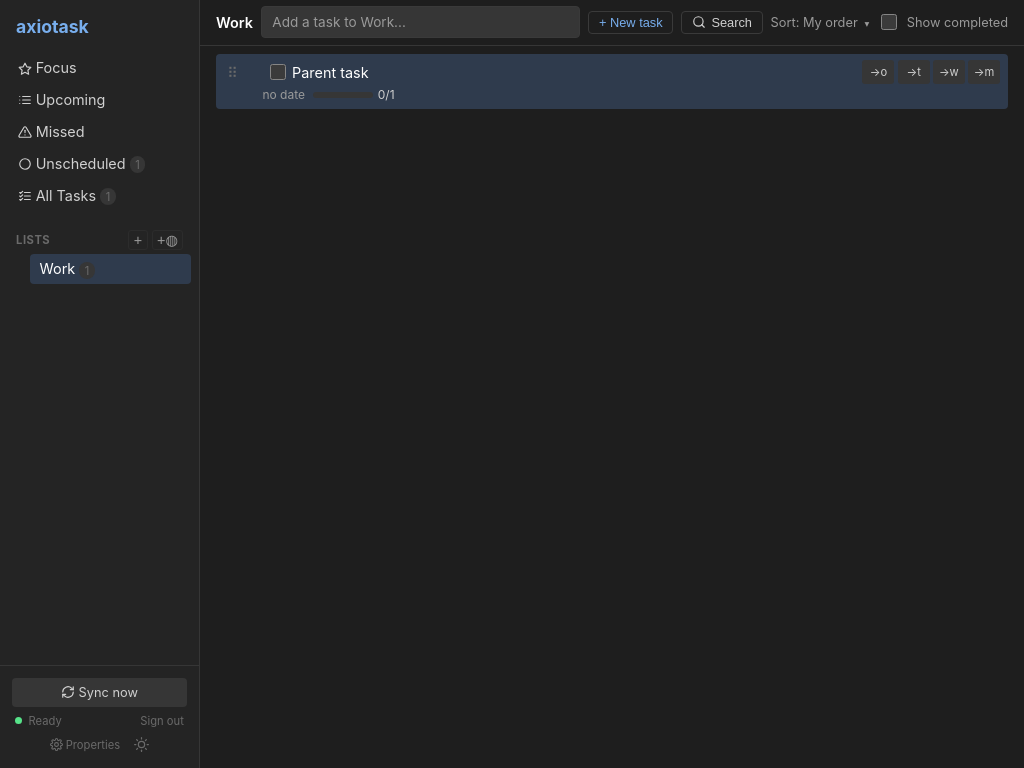
Test: #87 strict two-level tree › a top-level task that has subtasks can still gain more (add field in the panel)
Click the text "Parent task" at [330, 72], box [292,64,369,81]
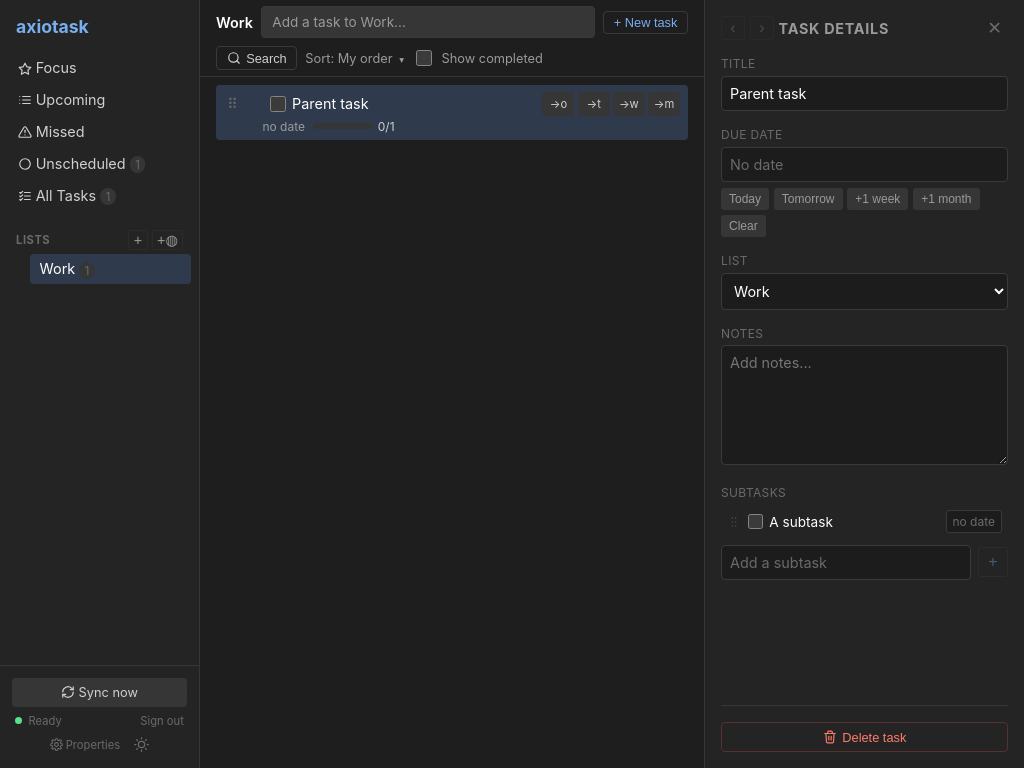
Now the heading "Task Details" is shown, box [779,20,889,36]
Now the field named "New subtask" is shown, box [721,544,971,580]
The list-level context menu no longer offers an add-subtask entry point.
Right-click the element with class "task-widget" at [452, 113], box [216,85,688,140]
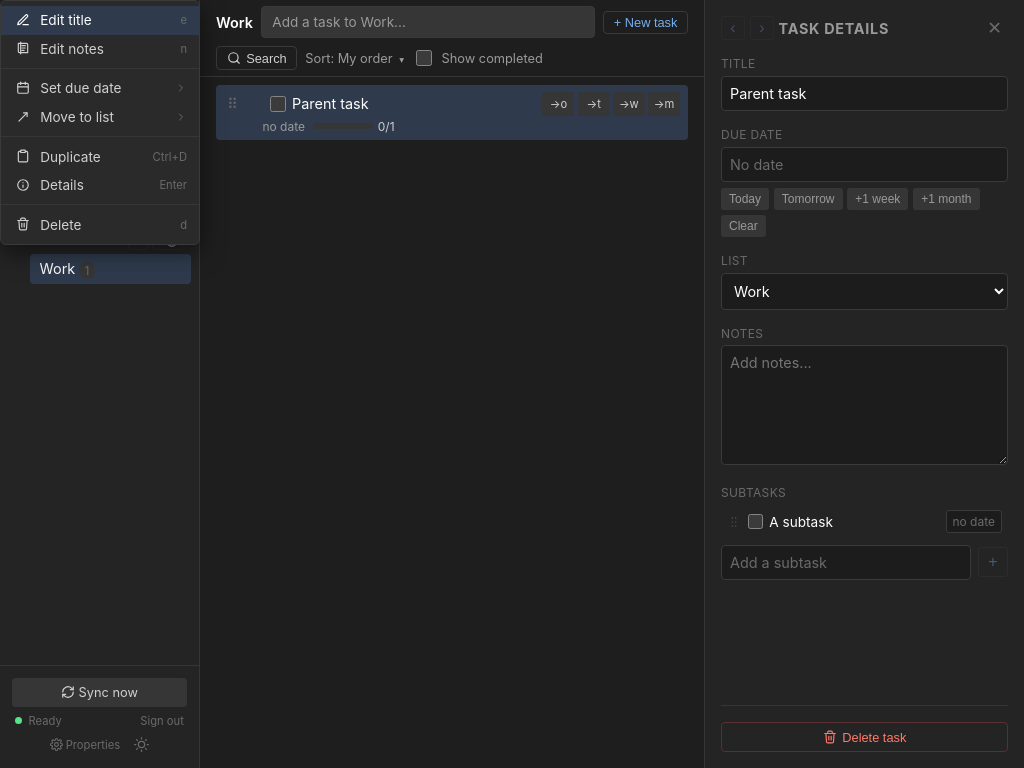
Now the menu with class "context-menu" is shown, box [0,0,200,245]
